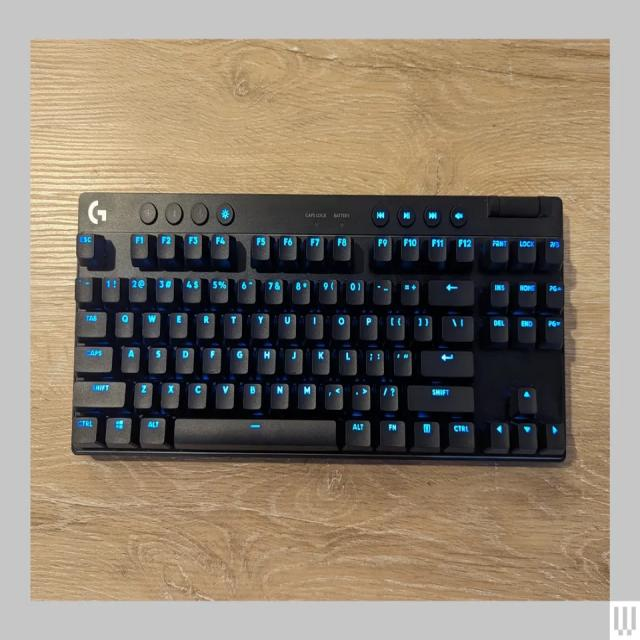clavier: (73, 182, 572, 471)
